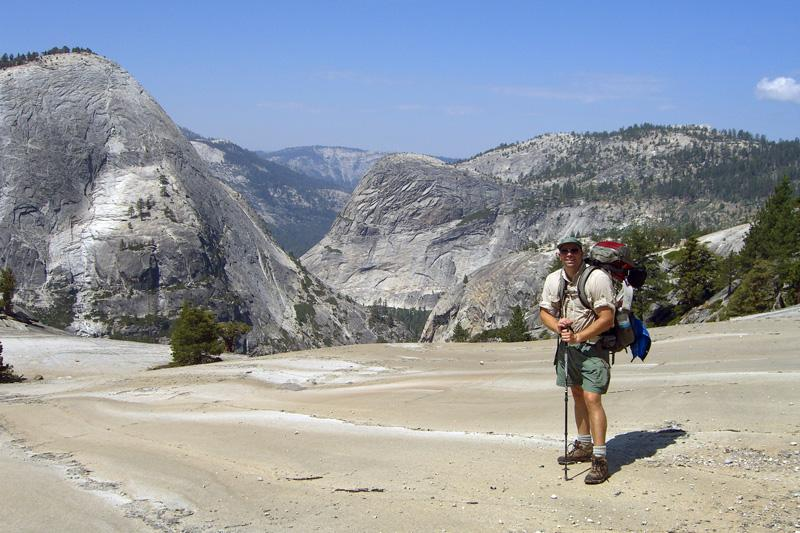person: (537, 236, 628, 484)
